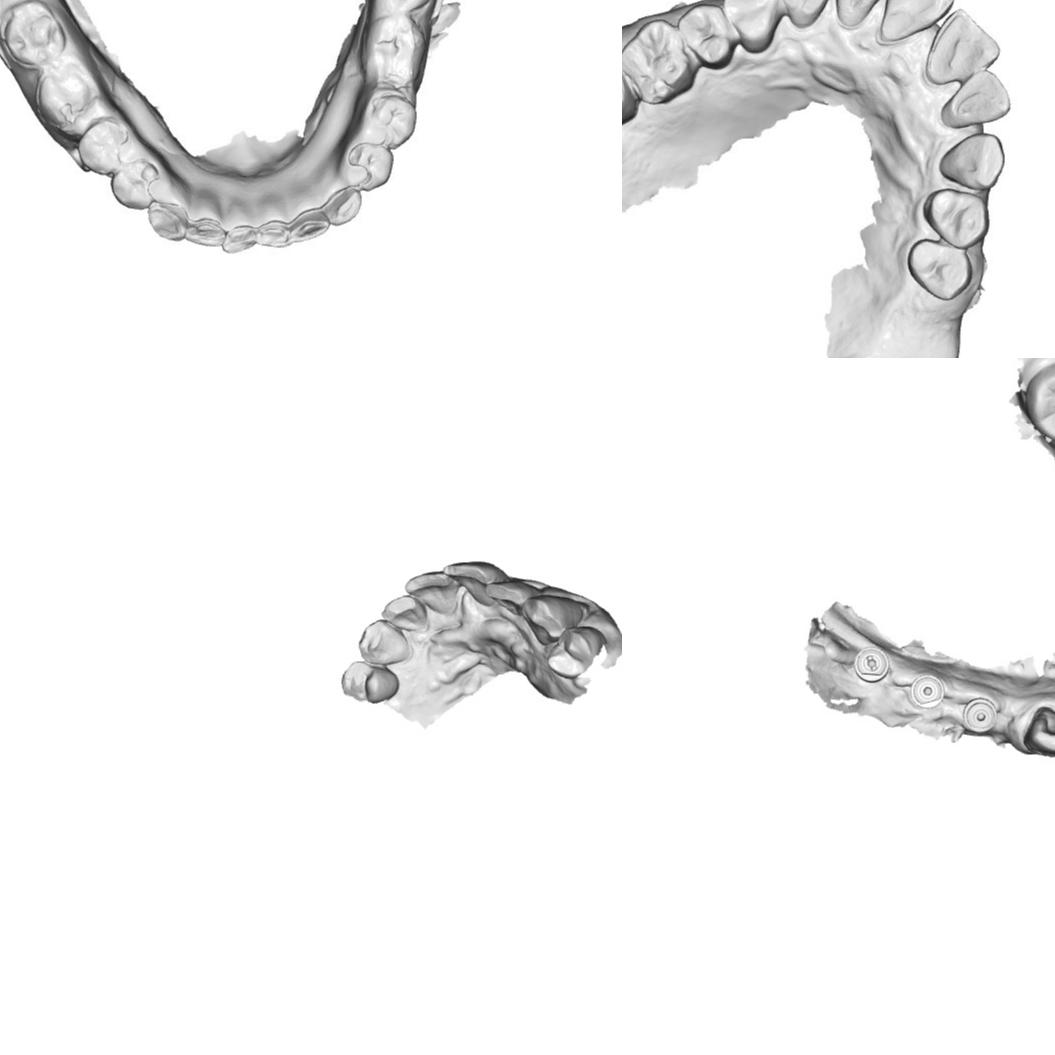canine: (938, 133, 1008, 189), (519, 593, 585, 646), (357, 618, 412, 665), (775, 0, 835, 30), (1022, 705, 1055, 759), (145, 203, 189, 242), (326, 186, 362, 224)
implant: (962, 697, 998, 732), (910, 673, 944, 709)
implant_minus: (852, 644, 891, 684)
incisor: (922, 9, 1006, 85), (938, 68, 1012, 130), (442, 560, 509, 606), (878, 0, 949, 40), (403, 568, 458, 616), (484, 580, 542, 618), (380, 594, 430, 634), (835, 0, 889, 31), (182, 213, 228, 247), (221, 223, 259, 256), (254, 221, 297, 249), (291, 211, 329, 241)
molar: (622, 13, 695, 110), (3, 1, 70, 65), (363, 16, 423, 83), (32, 66, 96, 125), (1024, 359, 1055, 445)
premolar: (904, 238, 970, 304), (924, 190, 989, 250), (682, 2, 737, 67), (544, 623, 604, 680), (339, 660, 400, 705), (113, 156, 161, 212), (80, 121, 131, 172), (344, 141, 395, 191), (726, 0, 778, 49), (369, 91, 414, 142)
